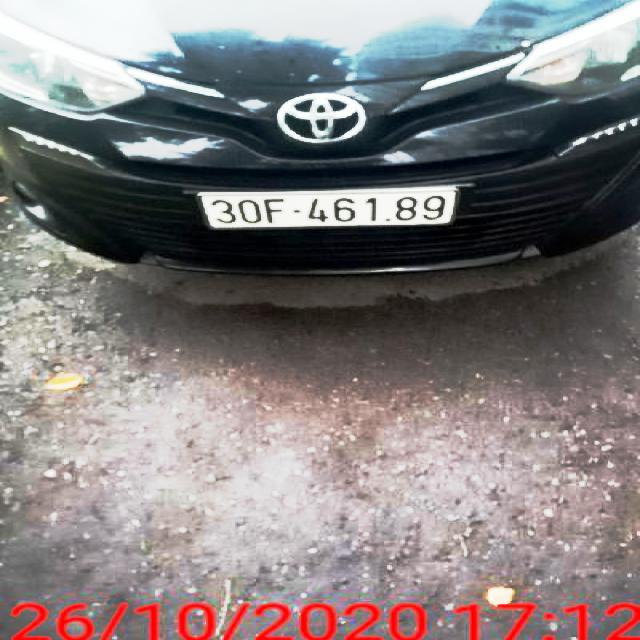license_plate: (200, 188, 456, 231)
